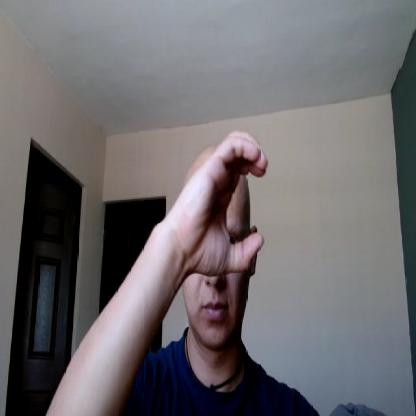C: (185, 129, 268, 273)
